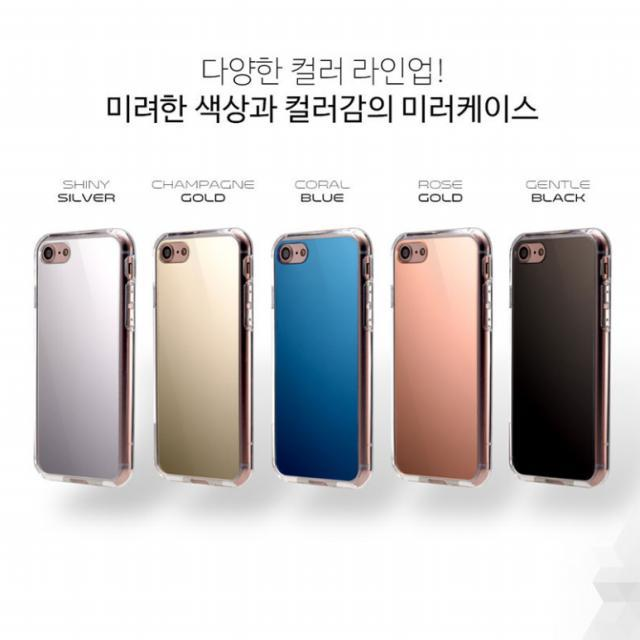phone: (271, 226, 373, 489), (152, 227, 255, 487), (508, 226, 610, 488), (390, 227, 492, 487), (33, 227, 135, 486)
